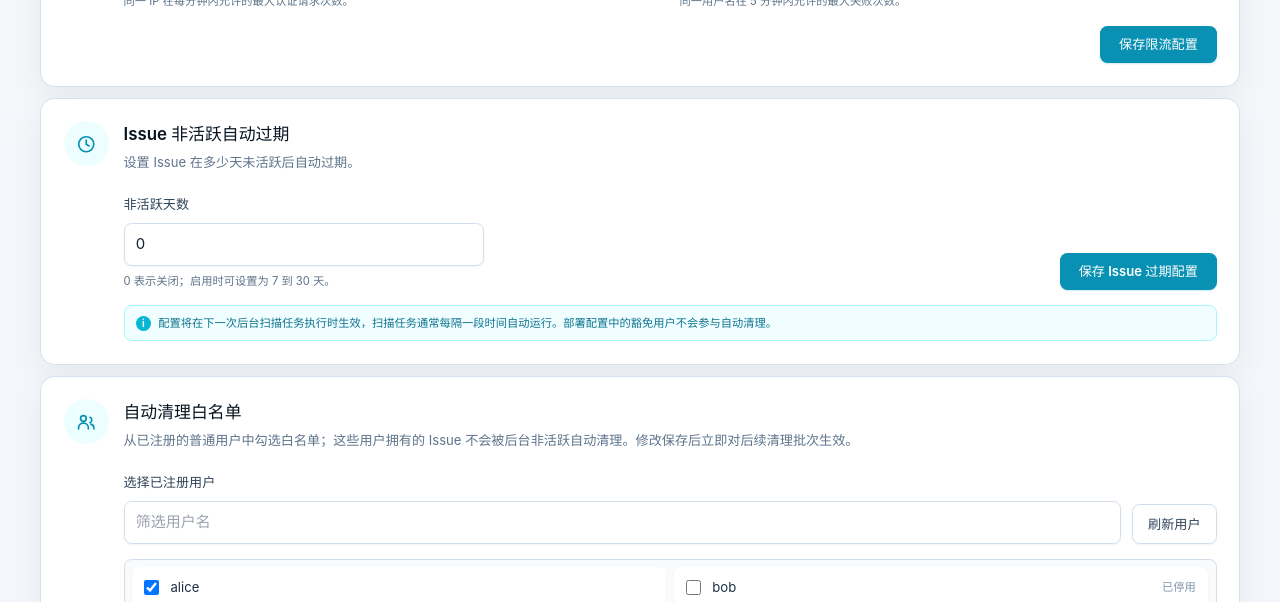
Test: presents metadata settings by visibility and reveals expert settings explicitly
The width and height of the screenshot is (1280, 602).
(page scrolled)
Expected: the checkbox named "免于自动清理：alice" is checked, [144, 580, 159, 594]
Click the checkbox named "免于自动清理：bob" at (694, 587), box [686, 580, 701, 594]
(page scrolled)
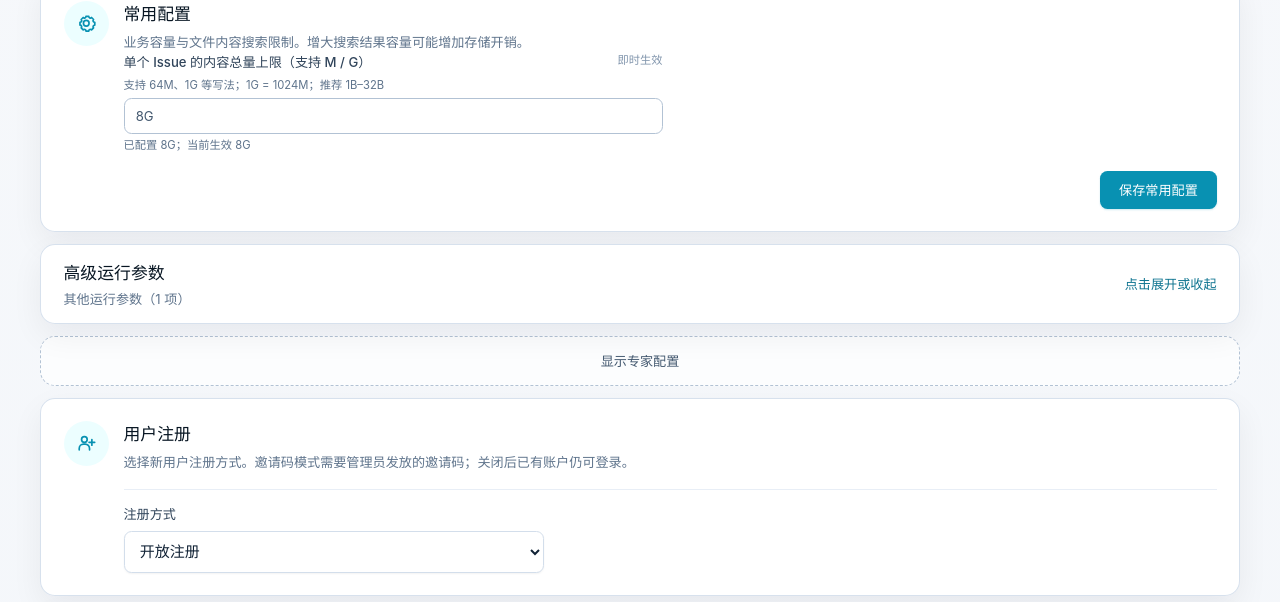
Expected: the text "高级运行参数" is shown, [64, 262, 165, 282]
Expected: the text "支持 64M、1G 等写法；1G = 1024M；推荐 1B–32B" is shown, [124, 76, 384, 94]
Click the button "显示专家配置" at (640, 361), box [40, 336, 1240, 386]
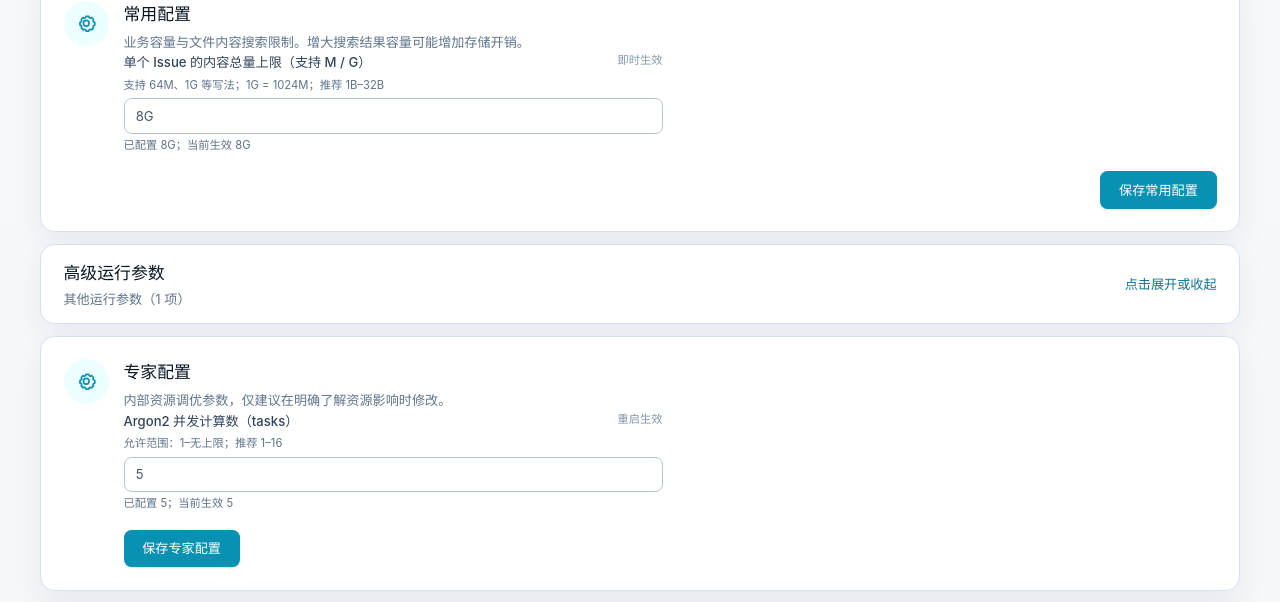
Result: the heading "专家配置" is shown at [124, 362, 191, 382]
Result: the text "Argon2 并发计算数（tasks）" is shown at [124, 412, 298, 430]
Click the text "高级运行参数" at (114, 272), box [64, 262, 165, 282]
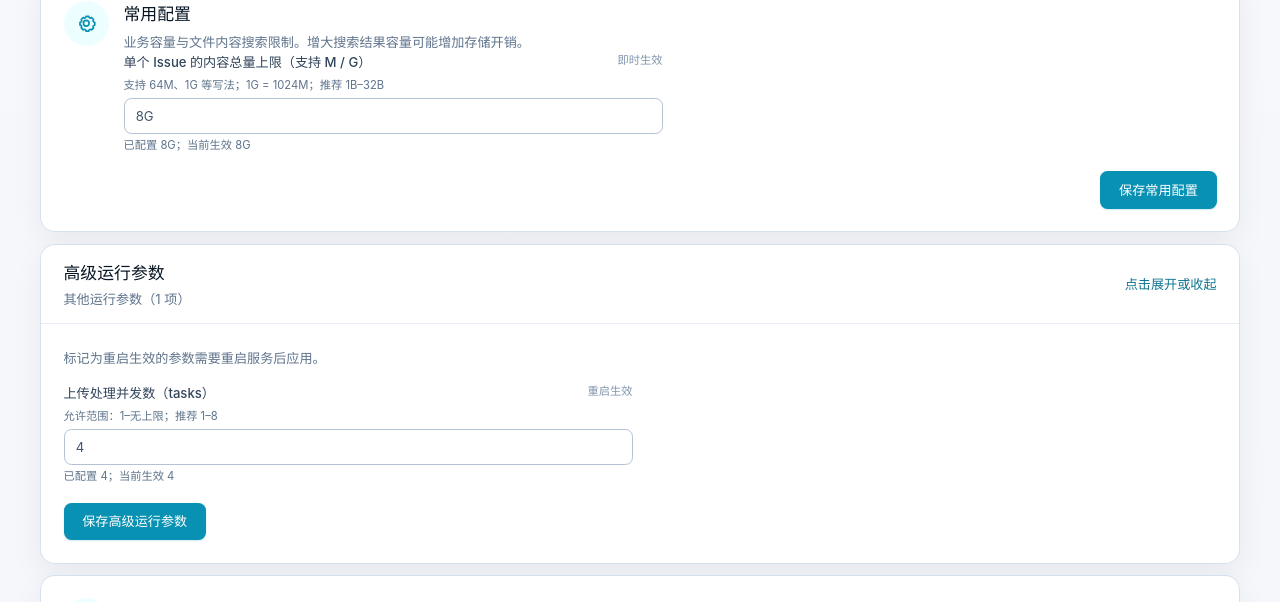
Replace the text in the number field named "upload_concurrent_processing_tasks" with "6" at (348, 447), box [64, 429, 632, 465]
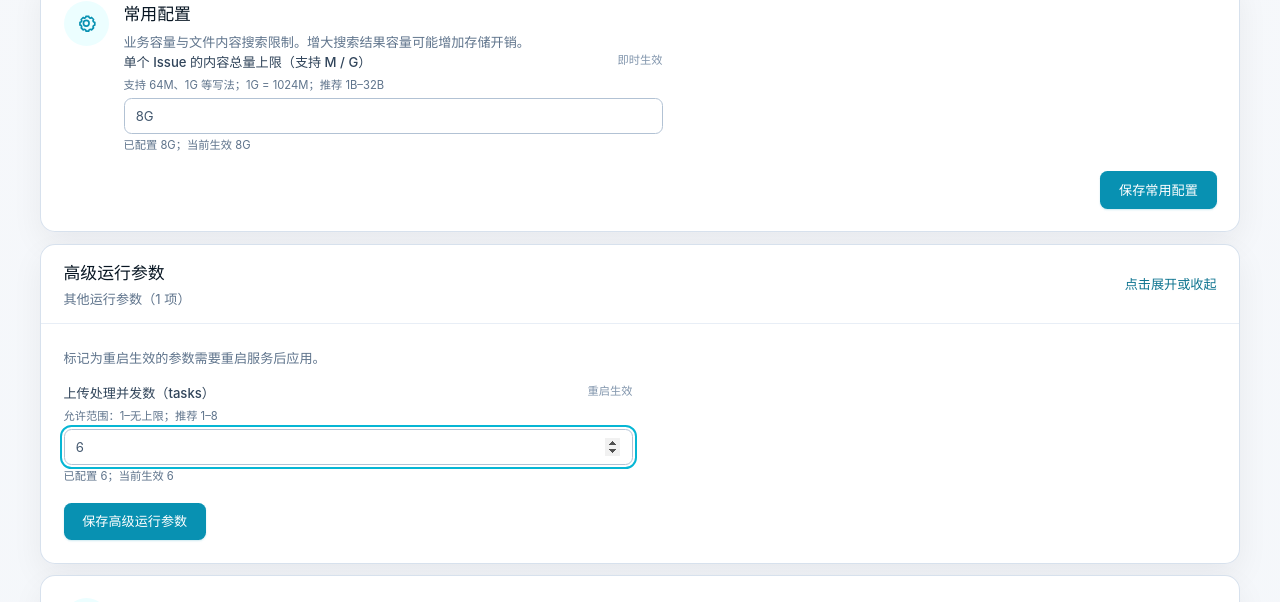
Click the button "保存高级运行参数" at (135, 521), box [64, 502, 206, 540]
(page scrolled)
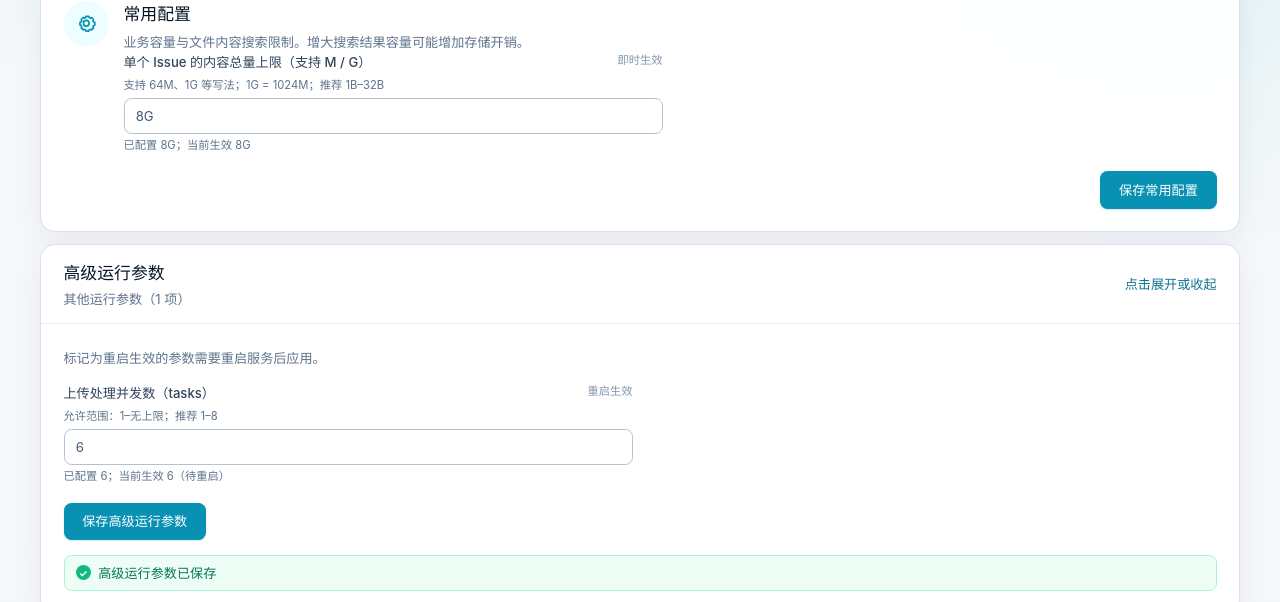
Result: the text "高级运行参数已保存" is shown at [98, 564, 216, 580]
